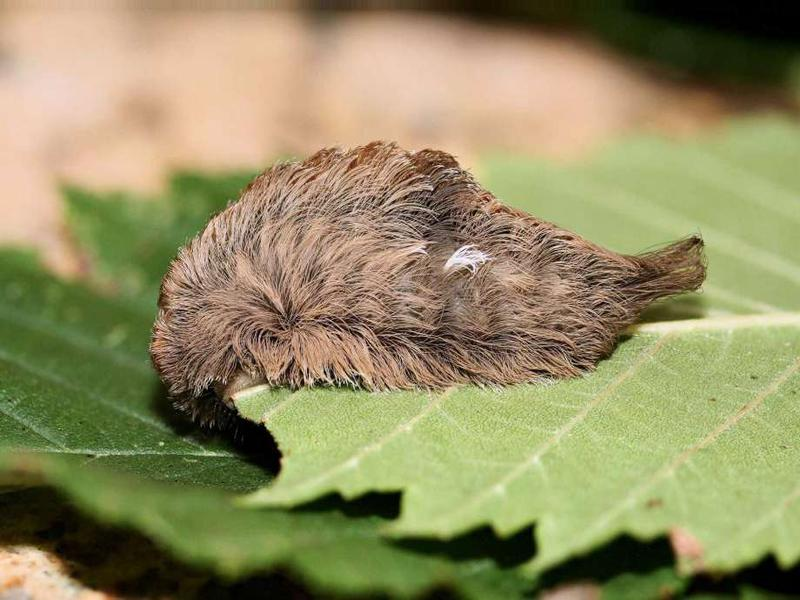Rice_horned_caterpillar: (146, 127, 704, 459)
